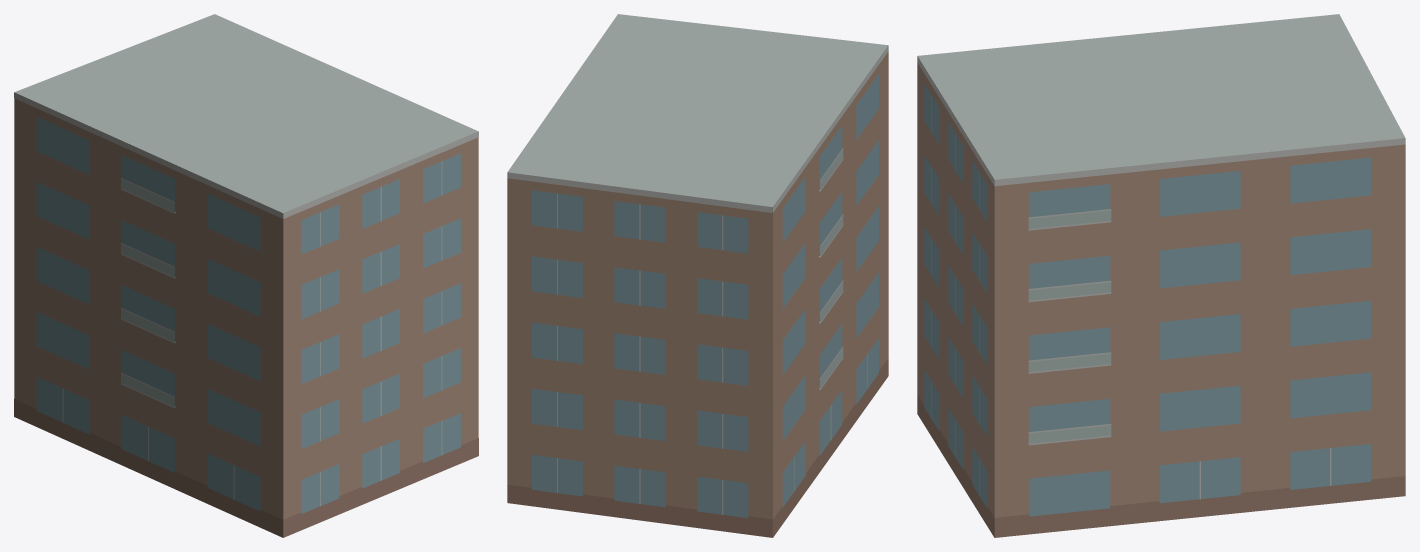
The model's file is survey-upis-32631208.glb.
3 views of the same model, side by side, from view 1: azimuth 30°, elevation 25°; view 2: azimuth 150°, elevation 25°; view 3: azimuth 270°, elevation 25° (orthographic). The views are drawn at different scales.
Visible parts, largest first — view 1: survey-upis-32631208.tmp; view 2: survey-upis-32631208.tmp; view 3: survey-upis-32631208.tmp.
Part boxes in pixels (box(x1,y1,x2,y2)): survey-upis-32631208.tmp: box(14, 14, 478, 537); survey-upis-32631208.tmp: box(507, 14, 888, 537); survey-upis-32631208.tmp: box(917, 14, 1405, 537).
Size of the model in its own units: 13.63 by 13.7 by 16.95.
